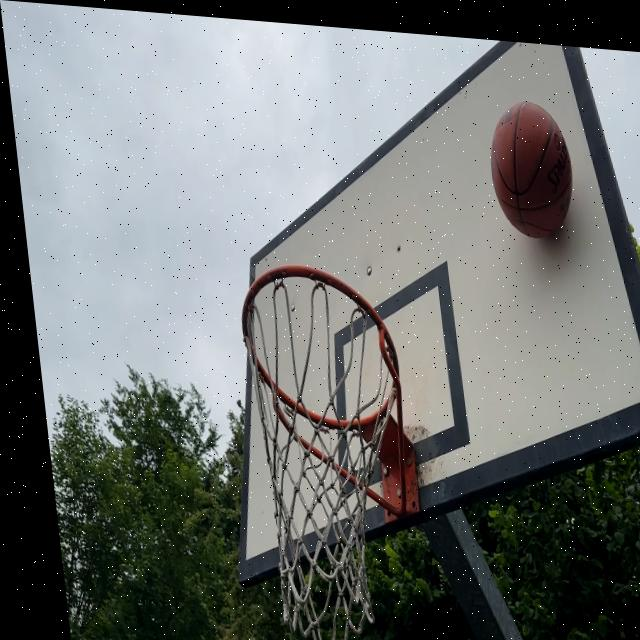rebound_hit: (482, 95, 583, 251)
